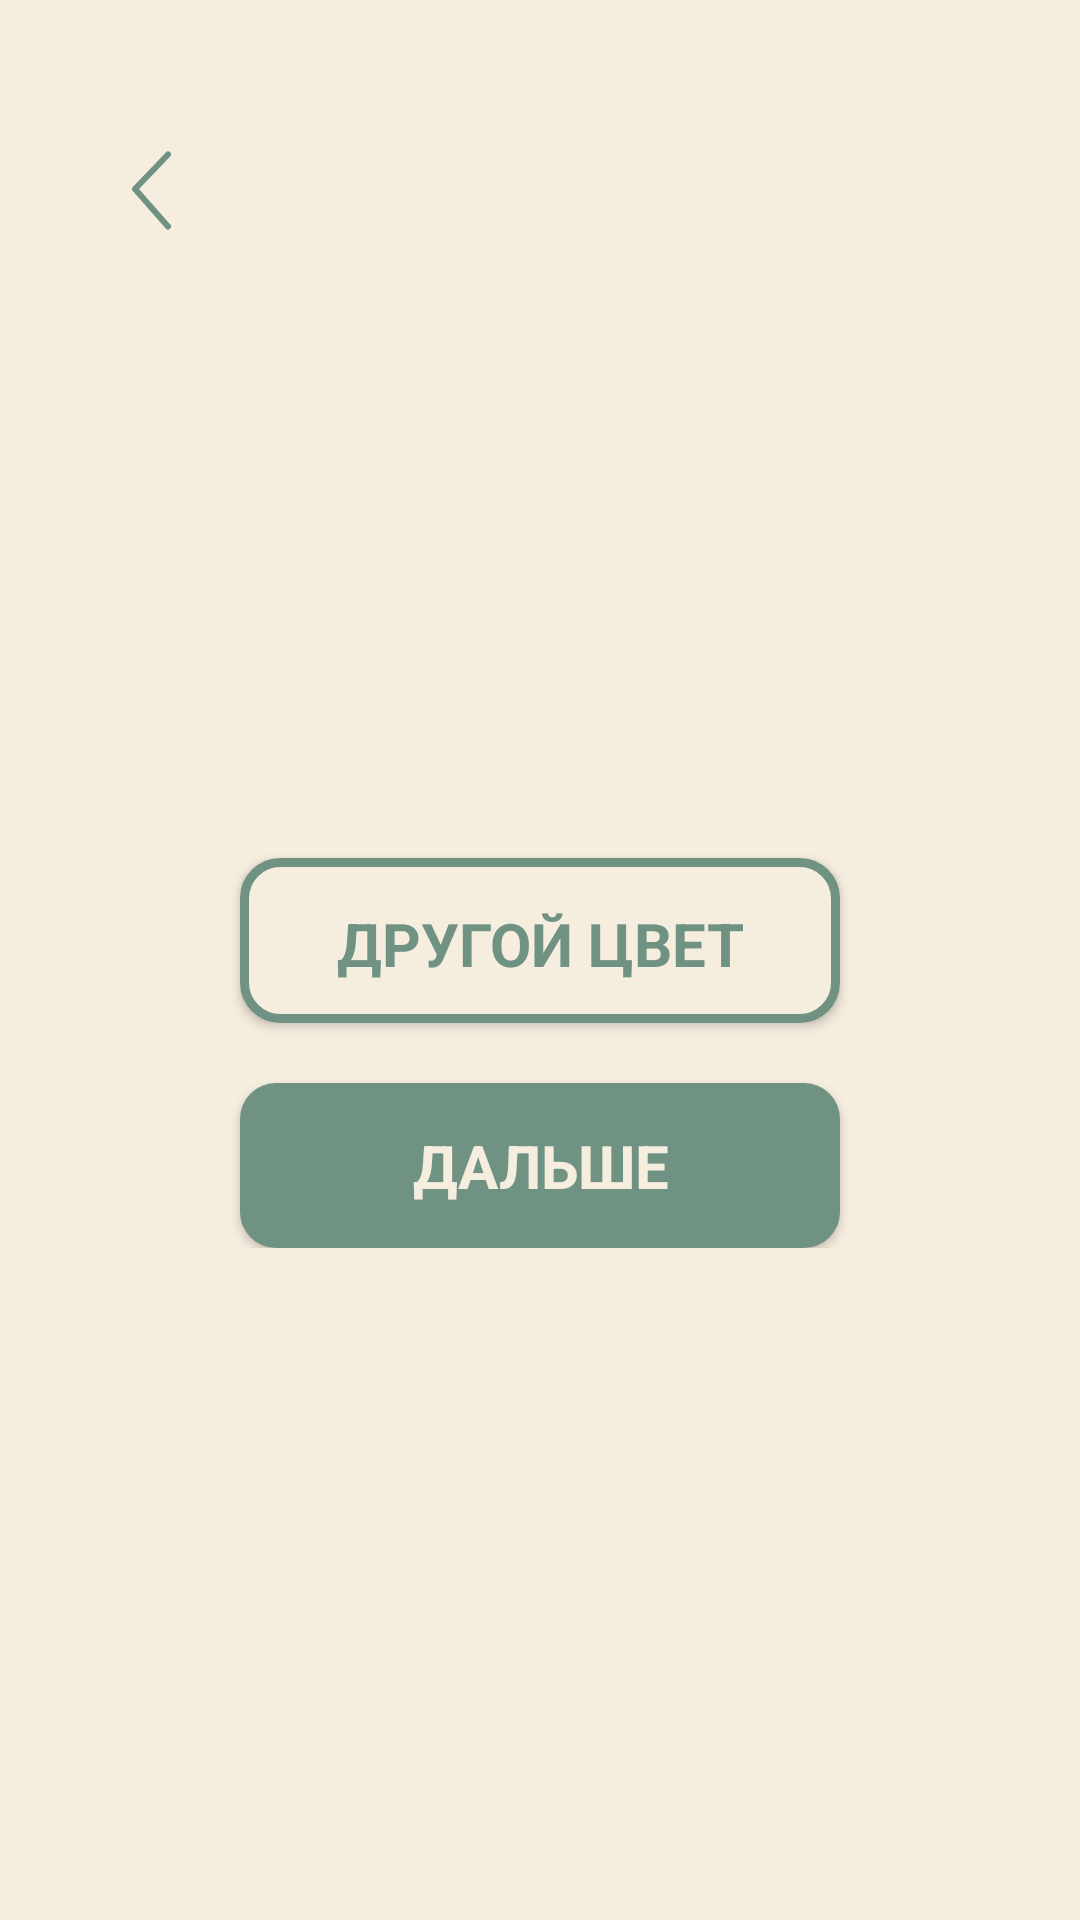

Point at icon controls on the screen. Image size 1080px×1920px, points as (x=x, y=y).
Back Button: (x=151, y=190)
